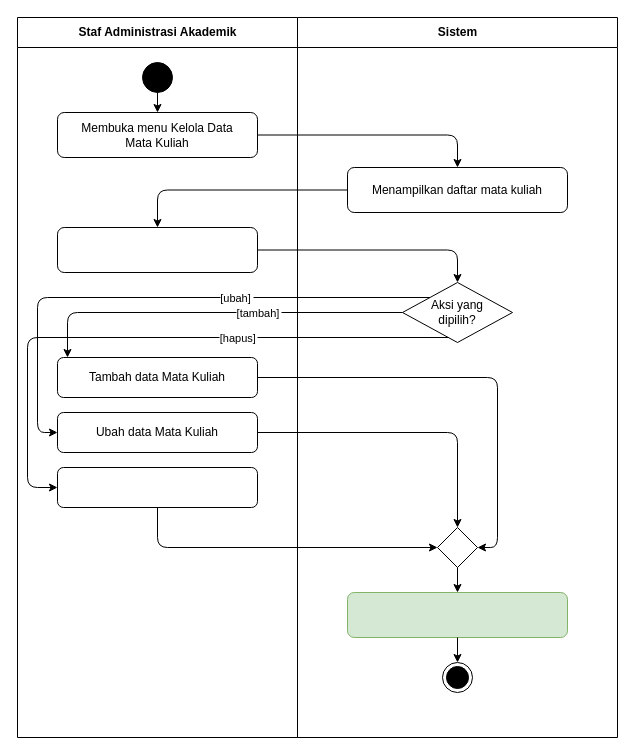
Image size: 635x755. Some labels were removed from this diagram. Here are the shapes that lost their labels. From the top down, the centre of each, then its label:
At (157,249): "Memilih aksi pengelolaan (tambah, ubah, atau hapus)".
At (157,487): "Hapus data Mata Kuliah".
At (457,615): "Memvalidasi dan menyimpan perubahan data mata kuliah".
